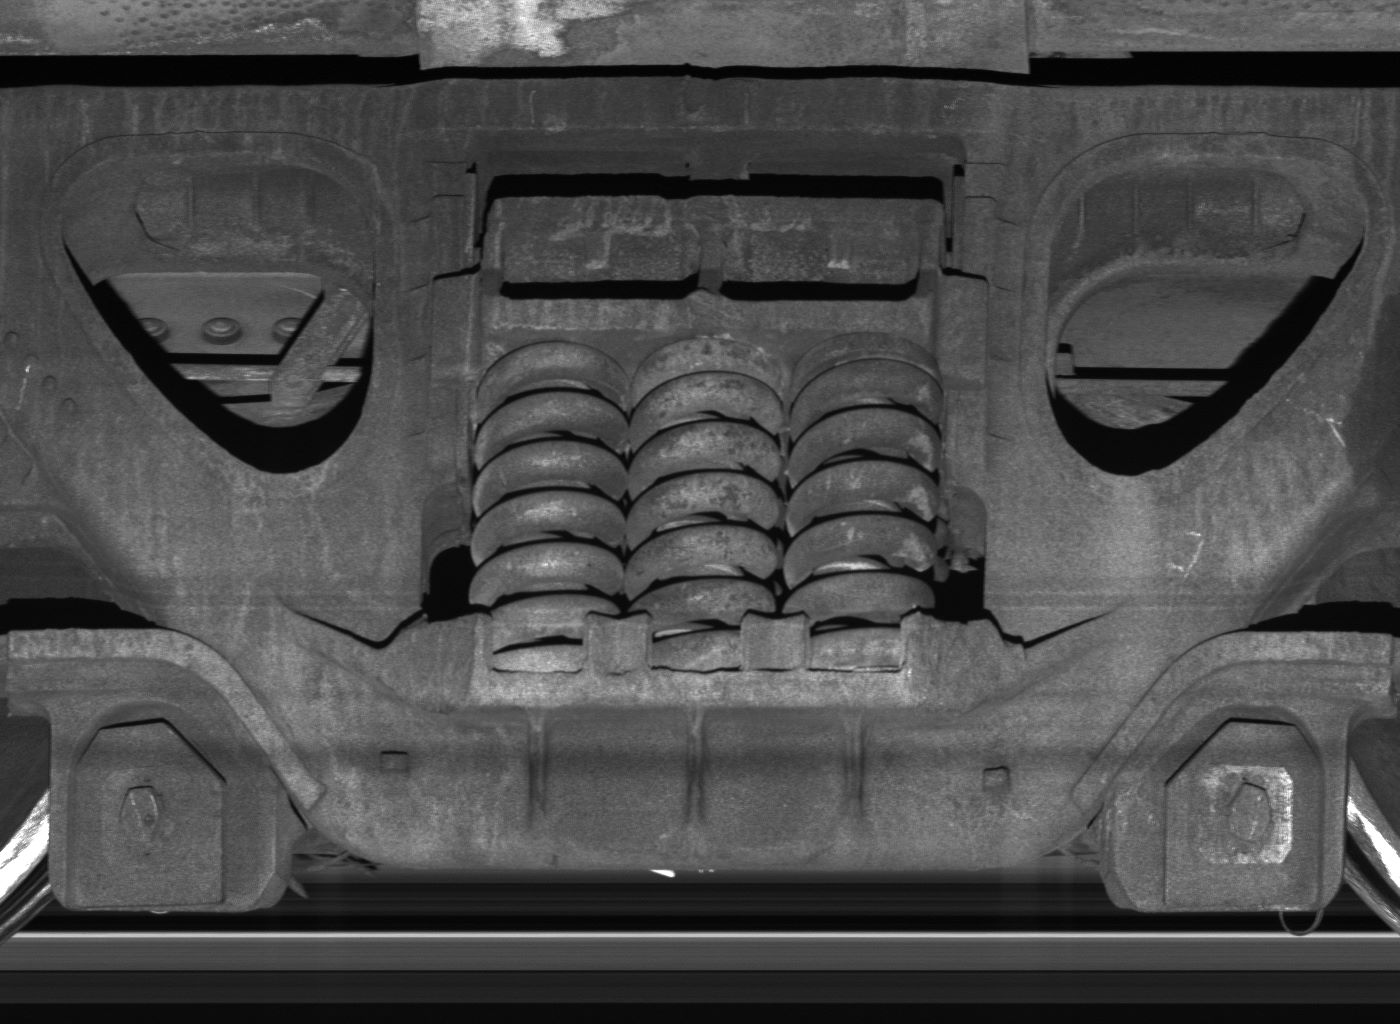normal: (1110, 688, 1342, 912), (51, 692, 276, 915)
